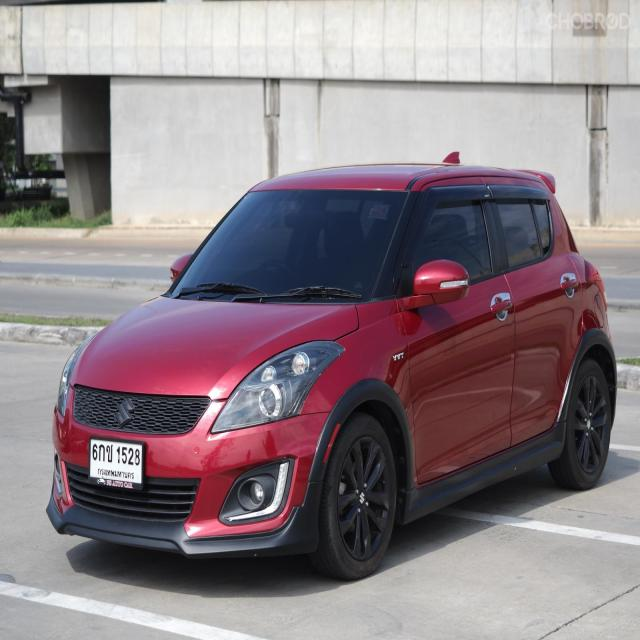license_plate: (88, 433, 146, 496)
